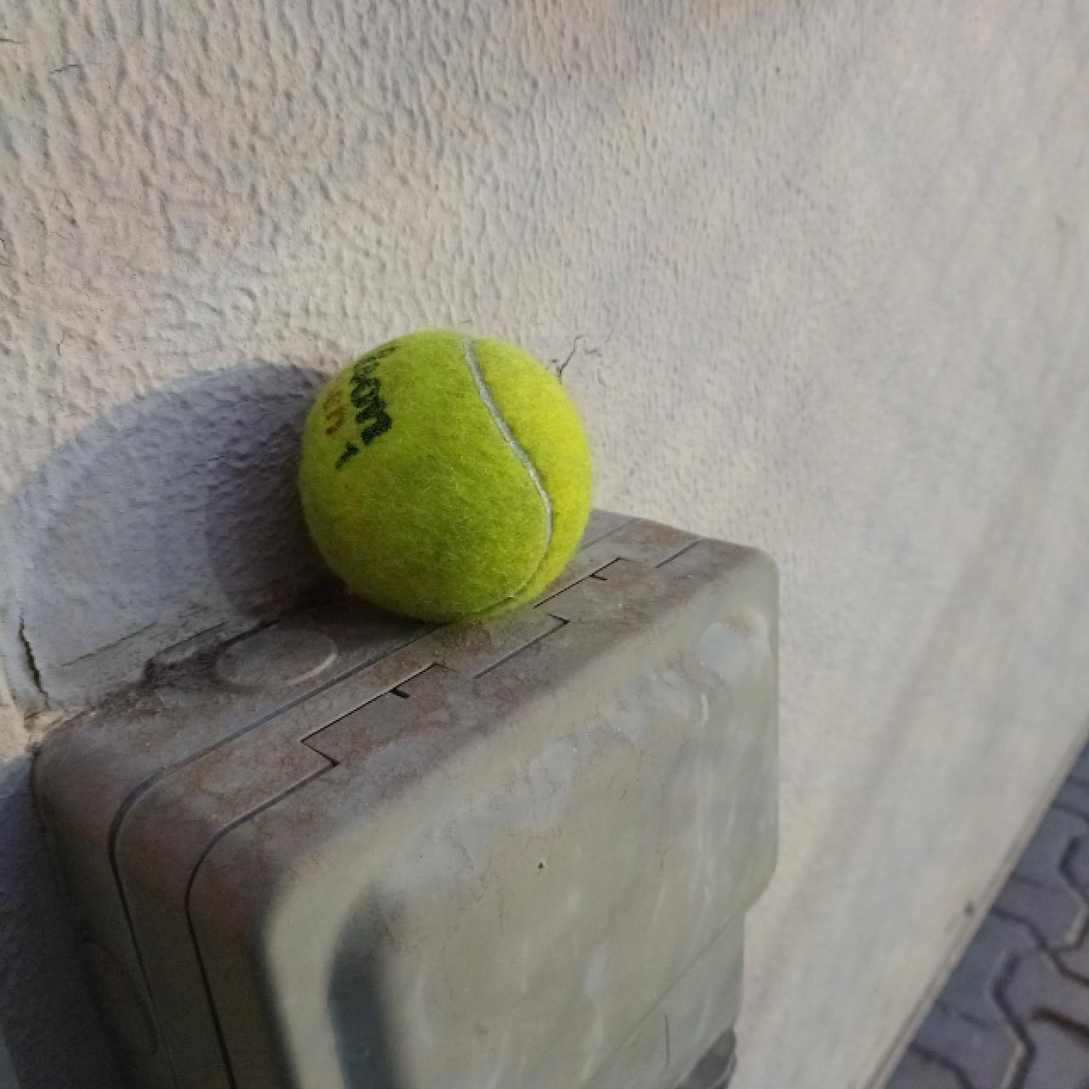tennis-ball: (296, 328, 593, 623)
